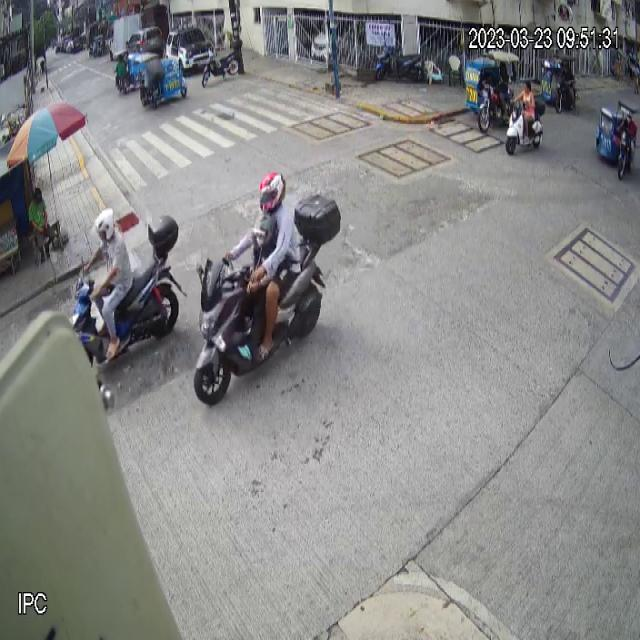Motorcycle: (192, 192, 342, 404), (71, 214, 190, 368), (505, 97, 547, 157), (202, 37, 243, 89), (374, 42, 424, 84)
Tricycle: (465, 50, 519, 133), (595, 97, 640, 179), (134, 52, 187, 111)
